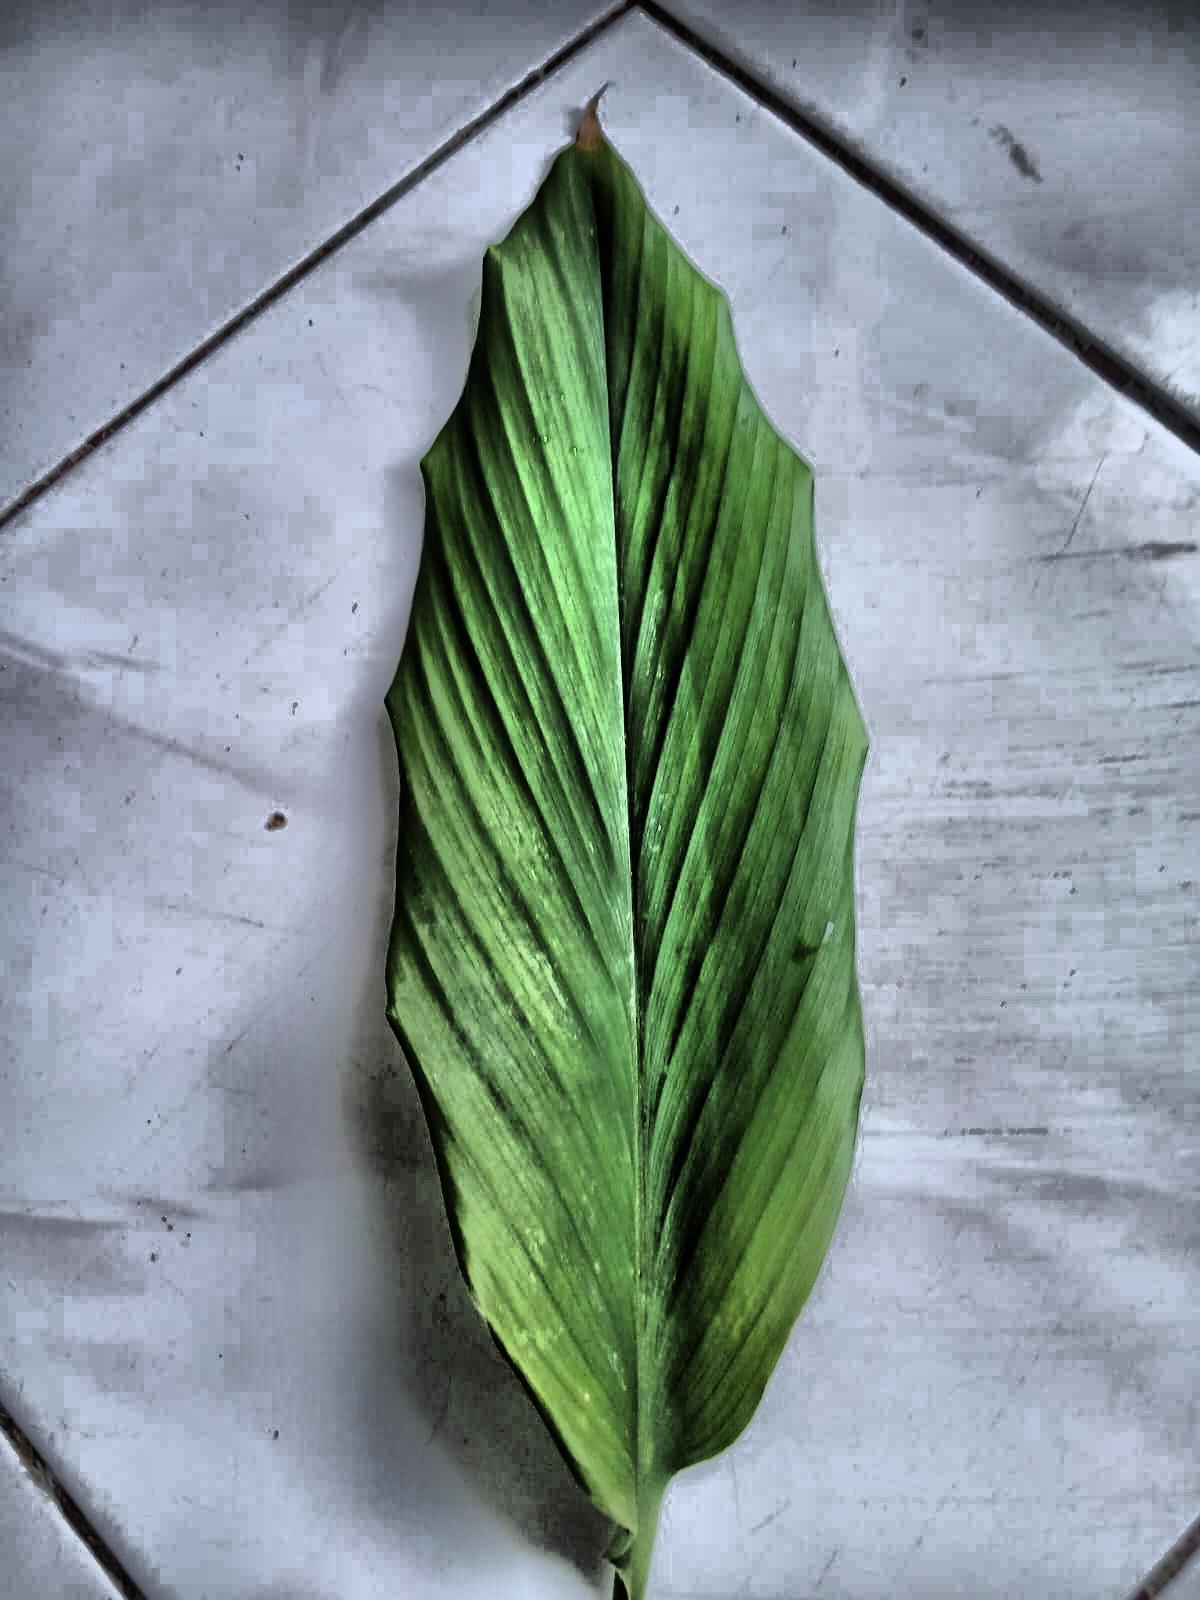daun kunyit: (384, 110, 868, 1599)
